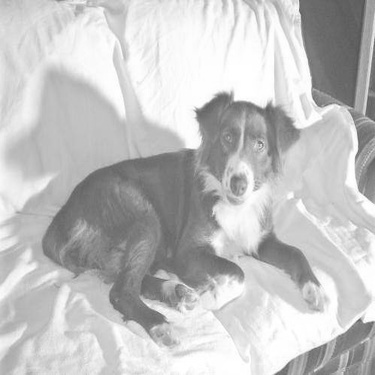dog: (33, 83, 333, 353)
